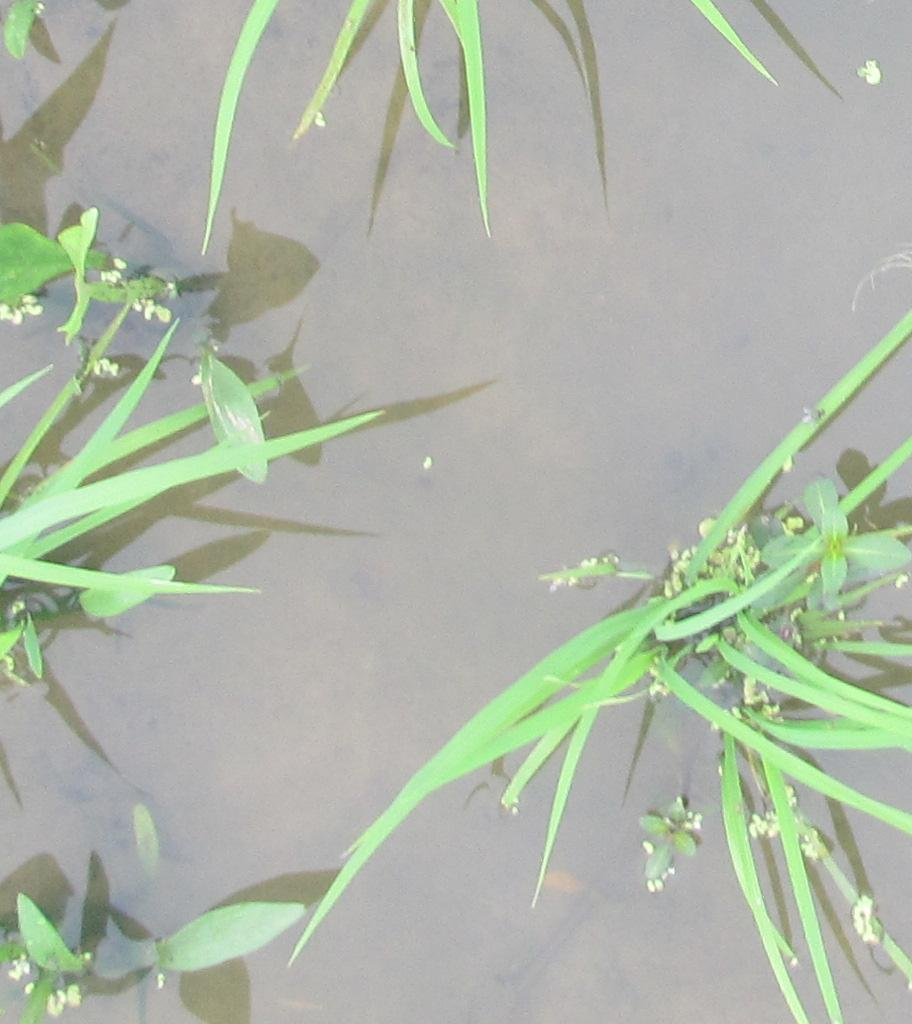Weed: (11, 892, 319, 997), (3, 224, 192, 338)
